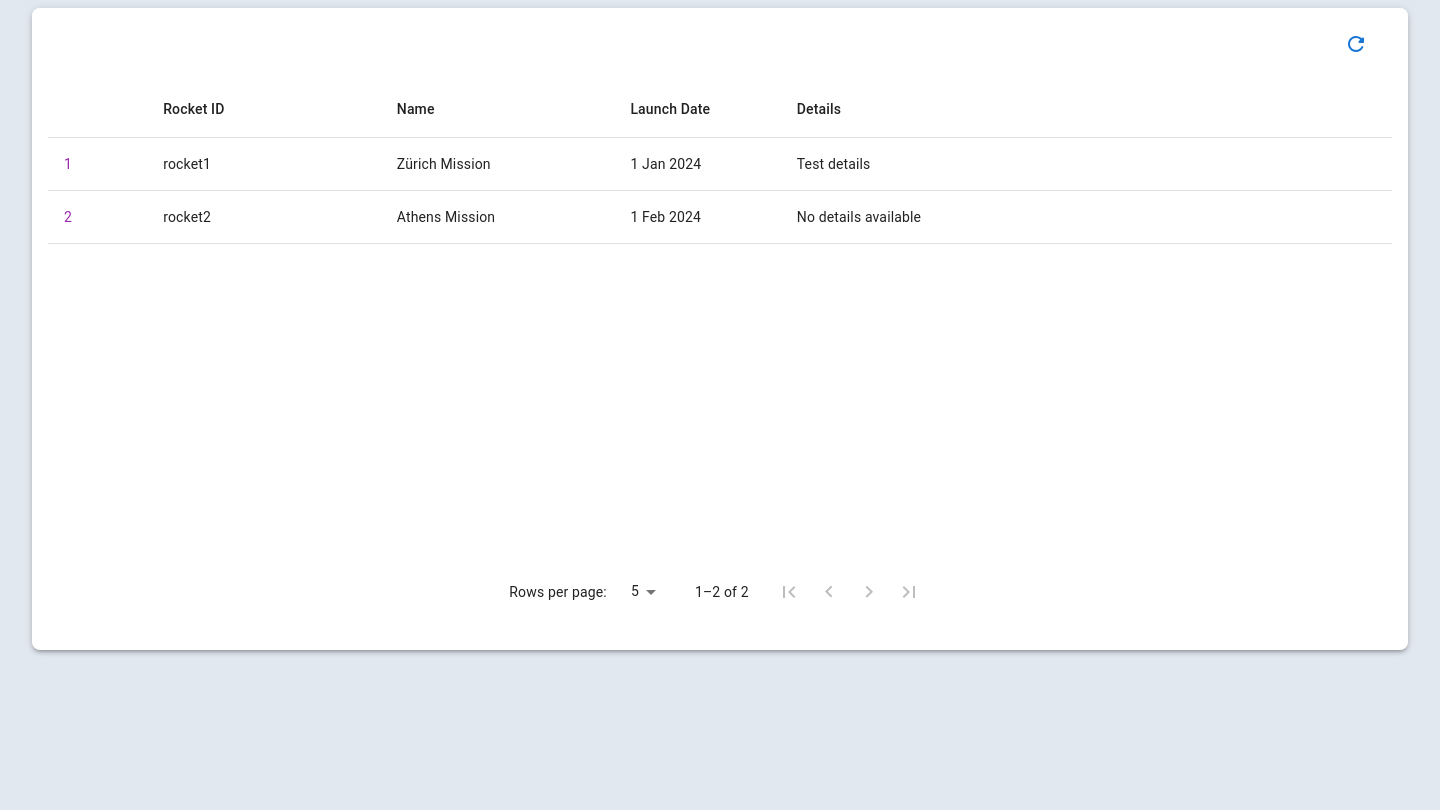
Test: LaunchDataTable › Sorting › sorts by name with special characters
Click the button "Name": click(416, 109) [397,101,435,117]
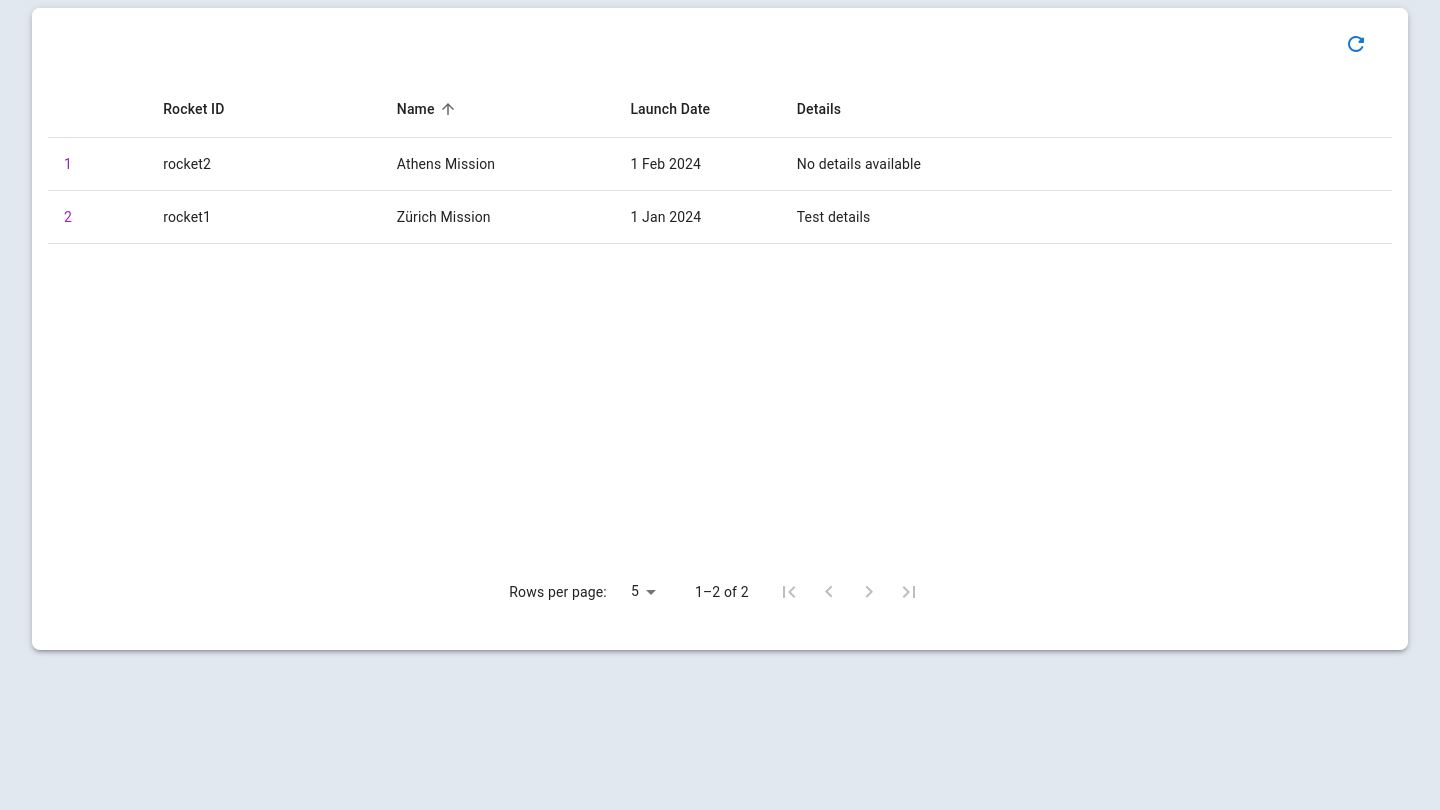
Result: the text "Athens Mission" is shown at [381,138,614,191]
Result: the text "Zürich Mission" is shown at [381,191,614,244]
